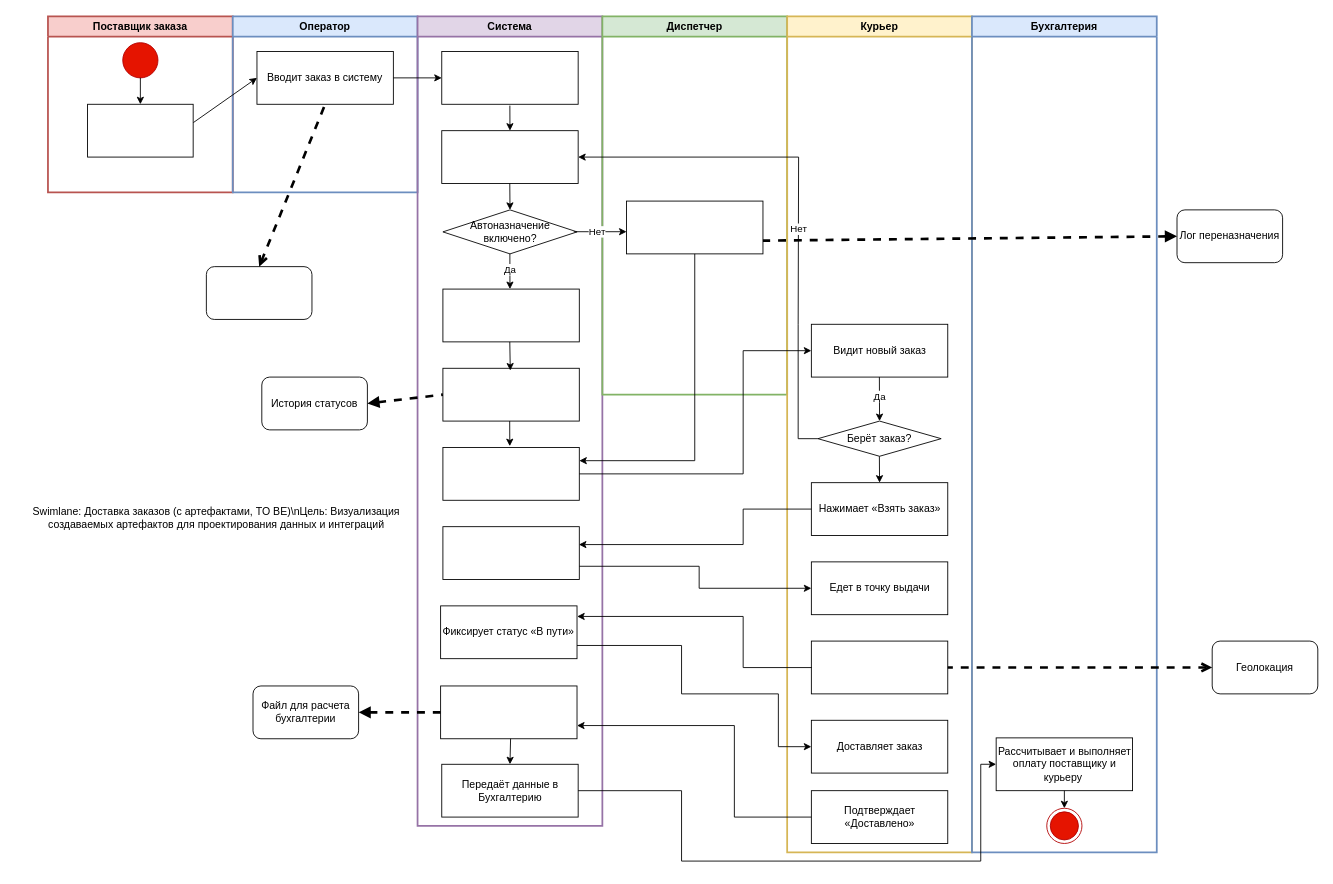
The diagram is 1333 pixels wide and 884 high, and some of its shapes have lost their labels. The shapes that lost their labels are listed below. From the top down, each one's centre as x and y in pixels, then its label:
At [509,77]: "Сохраняет заказ, статус = «Принят»".
At [140,130]: "Передаёт данные заказа оператору (телефон/email)".
At [509,156]: "Отображает как «Неназначенный»".
At [694,227]: "Вручную назначает курьера".
At [258,292]: "Заказ в системе".
At [510,315]: "Автоназначает ближайшего свободного".
At [510,394]: "Сохраняет назначение, статус = «Назначен»".
At [510,473]: "Уведомляет курьера".
At [510,552]: "Фиксирует статус «Забронирован»".
At [879,667]: "Подтверждает «Забрал»".
At [508,712]: "Фиксирует статус «Выполнен»".
